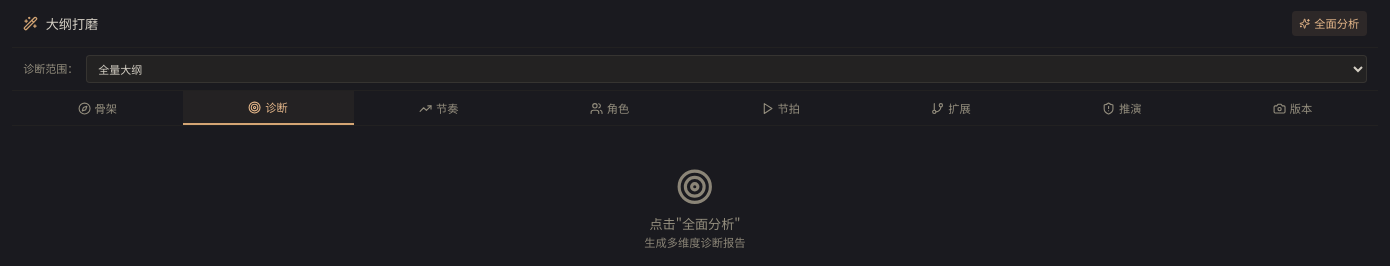
Test: OutlinePolishPanel › 无报告时节奏 tab 显示空态
Click the button "节奏".
click(439, 108)  # box [354,91,524,125]
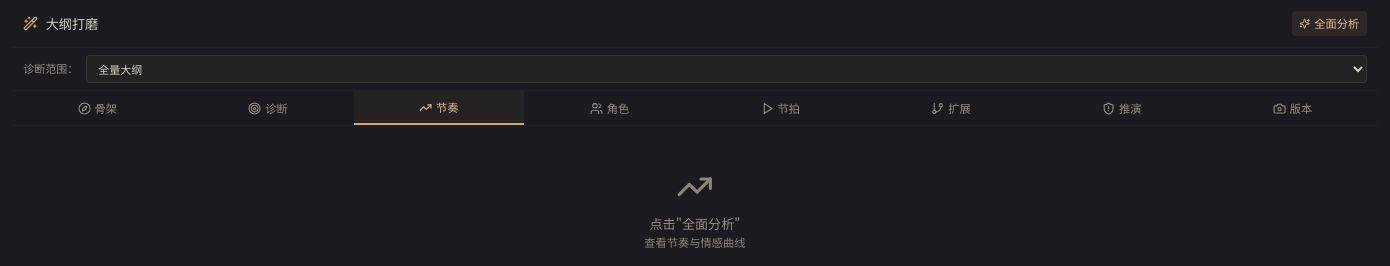
Check: the text "查看节奏与情感曲线" is shown, box [644,234,746,250]
